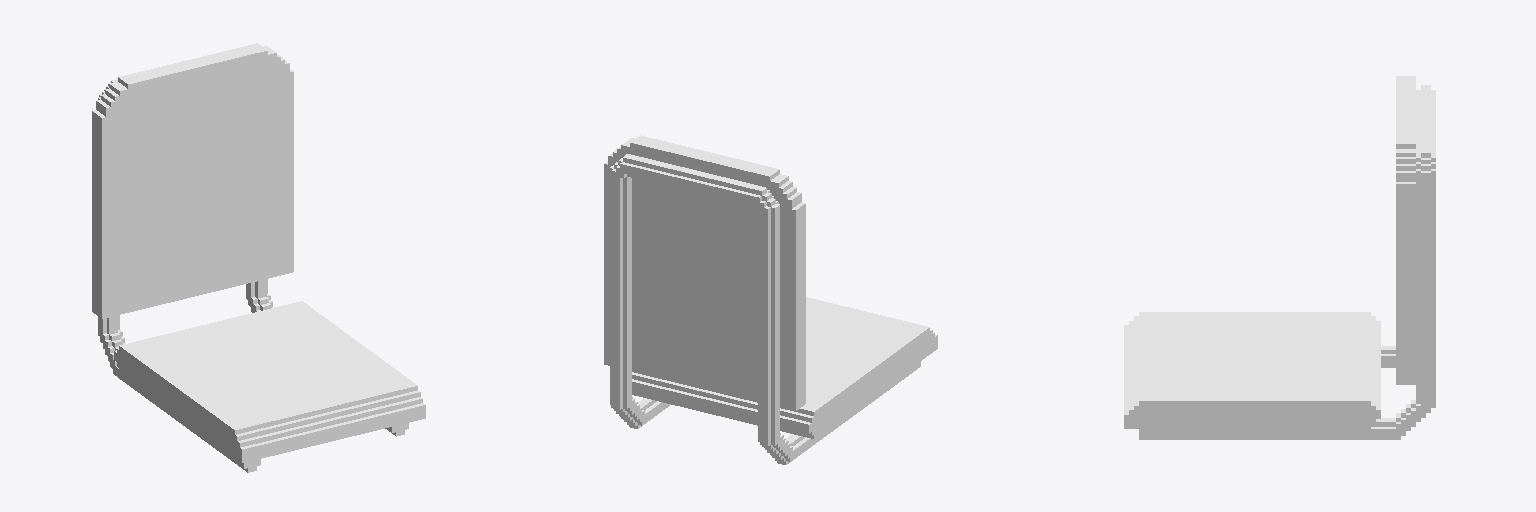
File: CadeiraHospitalParteDeCima.obj
3 renders of one model, left to right at view 1: azimuth 30°, elevation 25°; view 2: azimuth 150°, elevation 25°; view 3: azimuth 270°, elevation 25°, orthographic.
Parts seen in each view (by area): view 1: object 1; view 2: object 1; view 3: object 1.
Boxes of the visible parts, <box> form: object 1: <box>92,43,425,472</box>; object 1: <box>604,135,937,464</box>; object 1: <box>1124,76,1435,439</box>.
Size of the model in its own units: 4.4 by 6.4 by 6.2.